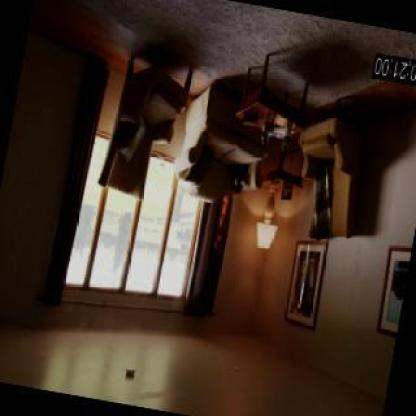Fire: (219, 192, 234, 233)
